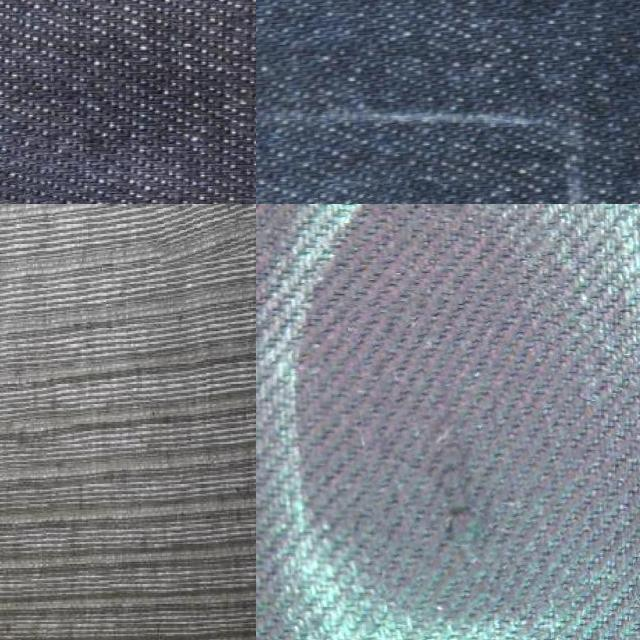other: (144, 204, 243, 262)
stains: (356, 288, 582, 614), (321, 173, 454, 204)
